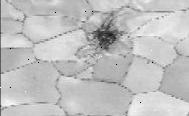good_void: (86, 15, 126, 54)
